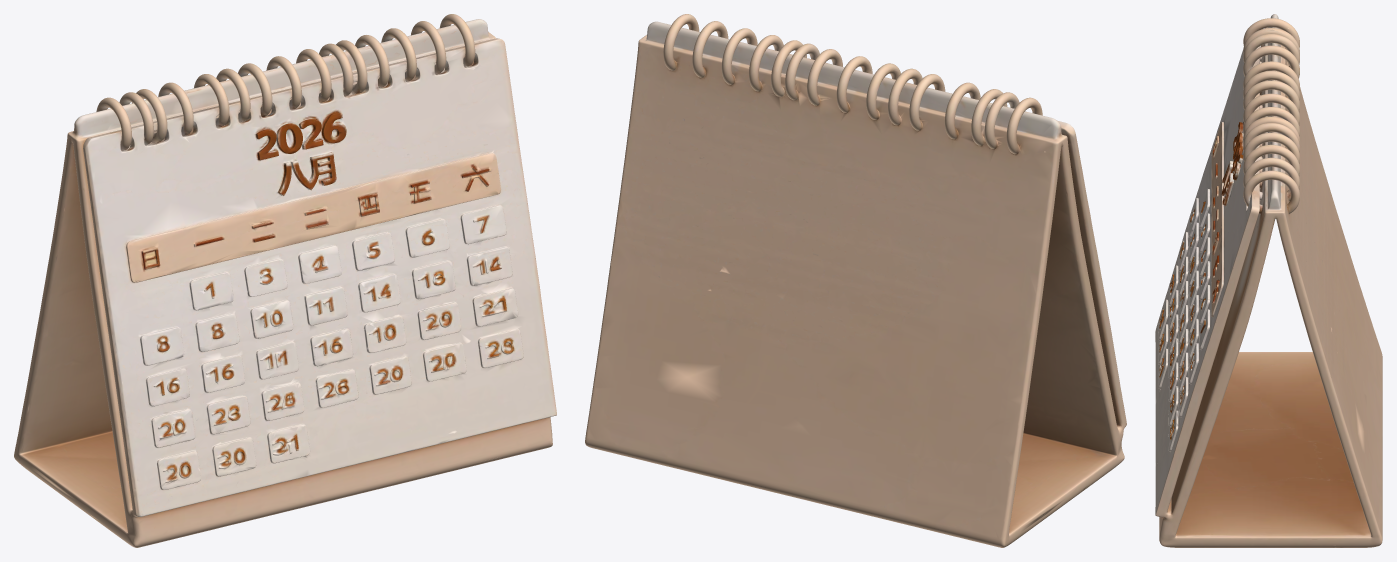
File: calendar.glb
The picture shows the model from 3 angles, left to right: view 1: azimuth 30°, elevation 25°; view 2: azimuth 150°, elevation 25°; view 3: azimuth 270°, elevation 25°; orthographic projection. The views are drawn at different scales.
Visible parts, largest first — view 1: node_0; view 2: node_0; view 3: node_0.
Boxes of the visible parts, x1,y1,x2,y2 form: node_0: (14, 14, 556, 547); node_0: (585, 14, 1126, 547); node_0: (1155, 14, 1382, 547).
Size of the model in its own units: 0.8438 by 0.7653 by 0.4339.
Materials: 1 (1 with a texture image).
